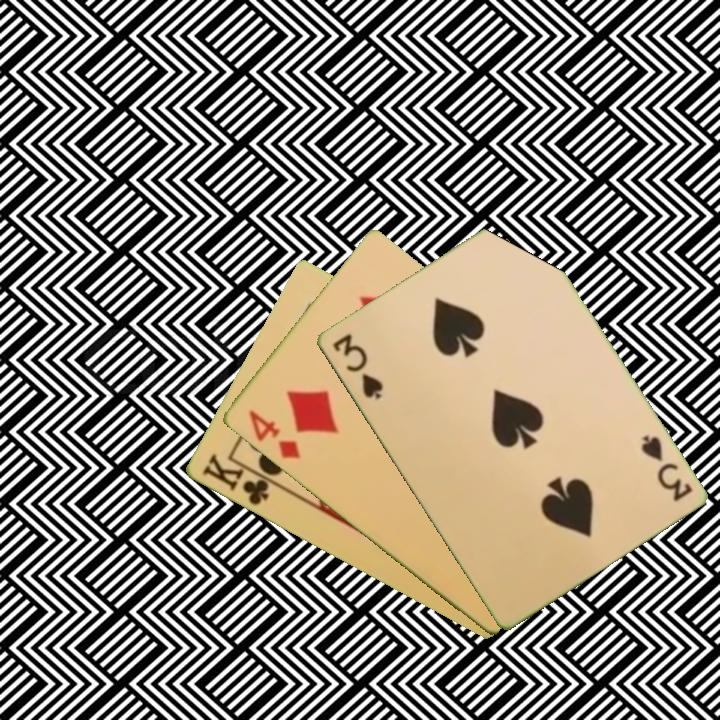3s: (637, 431, 695, 505), (328, 329, 386, 402)
4d: (244, 406, 303, 462)
Kc: (198, 450, 281, 509)
